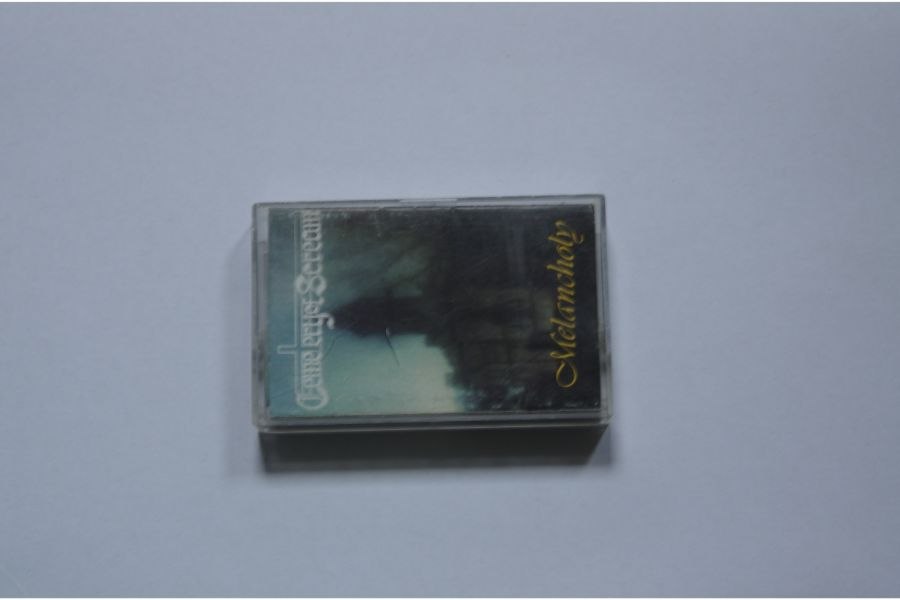album: (247, 195, 610, 425)
